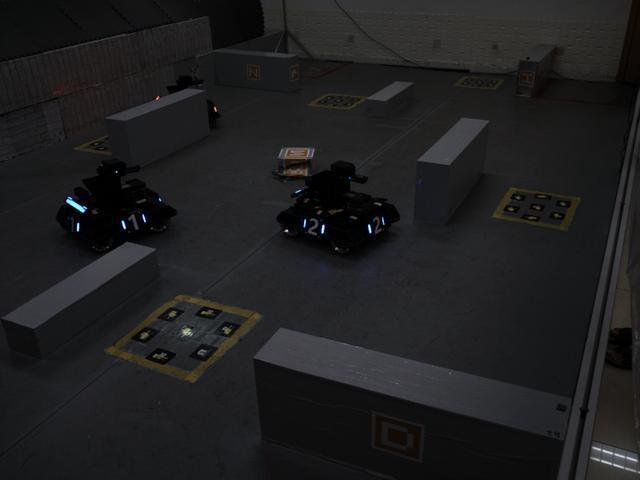armor: (115, 208, 151, 235), (302, 212, 330, 244), (58, 211, 85, 240), (365, 210, 388, 241)
